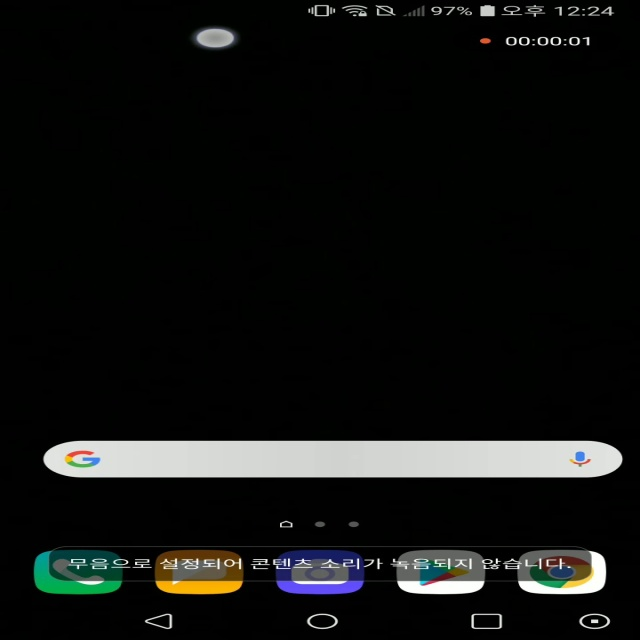Cursor: (193, 28, 238, 51)
